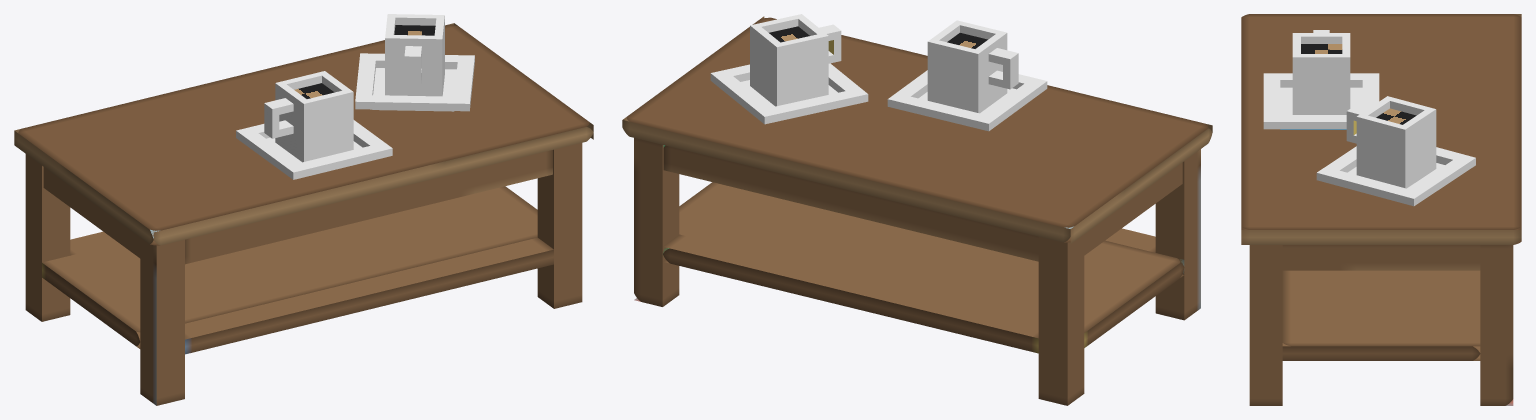
Rendered from Stol_3_ver1.fbx.
3 renders of one model, left to right at view 1: azimuth 30°, elevation 25°; view 2: azimuth 150°, elevation 25°; view 3: azimuth 270°, elevation 25°, orthographic.
Visible parts, largest first — view 1: cube_4, cube_5, cube_6, cube_8, cube_3, cube_1, cube_2, cube_18, cube_10, cube_32, cube_30, cube_17 (+13 smaller); view 2: cube_4, cube_5, cube_7, cube_9, cube_2, cube, cube_3, cube_12, cube_25, cube_10, cube_17, cube_29 (+10 smaller); view 3: cube_4, cube_5, cube, cube_1, cube_11, cube_31, cube_20, cube_33, cube_29, cube_16, cube_27, cube_25 (+13 smaller).
Boxes of the visible parts, left/top/right/bottom form: cube_4: left=14, top=23, right=593, bottom=245; cube_5: left=42, top=186, right=537, bottom=348; cube_6: left=185, top=237, right=553, bottom=354; cube_8: left=185, top=150, right=552, bottom=264; cube_3: left=140, top=229, right=184, bottom=405; cube_1: left=537, top=143, right=582, bottom=308; cube_2: left=25, top=154, right=70, bottom=321; cube_18: left=299, top=89, right=353, bottom=162; cube_10: left=43, top=167, right=140, bottom=258; cube_32: left=393, top=35, right=434, bottom=96; cube_30: left=355, top=95, right=470, bottom=111; cube_17: left=236, top=127, right=307, bottom=179; cube_4: left=622, top=16, right=1212, bottom=243; cube_5: left=679, top=182, right=1184, bottom=347; cube_7: left=663, top=234, right=1038, bottom=353; cube_9: left=663, top=145, right=1038, bottom=261; cube_2: left=1038, top=226, right=1084, bottom=405; cube: left=634, top=138, right=679, bottom=306; cube_3: left=1155, top=149, right=1200, bottom=320; cube_12: left=927, top=38, right=982, bottom=113; cube_25: left=773, top=33, right=828, bottom=106; cube_10: left=1084, top=162, right=1182, bottom=255; cube_17: left=974, top=77, right=1047, bottom=131; cube_29: left=710, top=70, right=779, bottom=124; cube_4: left=1241, top=14, right=1521, bottom=244; cube_5: left=1282, top=270, right=1480, bottom=360; cube: left=1480, top=245, right=1513, bottom=405; cube_1: left=1249, top=245, right=1282, bottom=405; cube_11: left=1282, top=245, right=1480, bottom=270; cube_31: left=1356, top=114, right=1409, bottom=188; cube_20: left=1301, top=54, right=1342, bottom=114; cube_33: left=1403, top=110, right=1431, bottom=185; cube_29: left=1400, top=154, right=1475, bottom=206; cube_16: left=1263, top=115, right=1346, bottom=129; cube_27: left=1330, top=170, right=1408, bottom=202; cube_25: left=1383, top=96, right=1436, bottom=171.
Bounding box in the file's own units: 96.88 × 51.56 × 53.12.
Materials: 2 (2 with a texture image).
